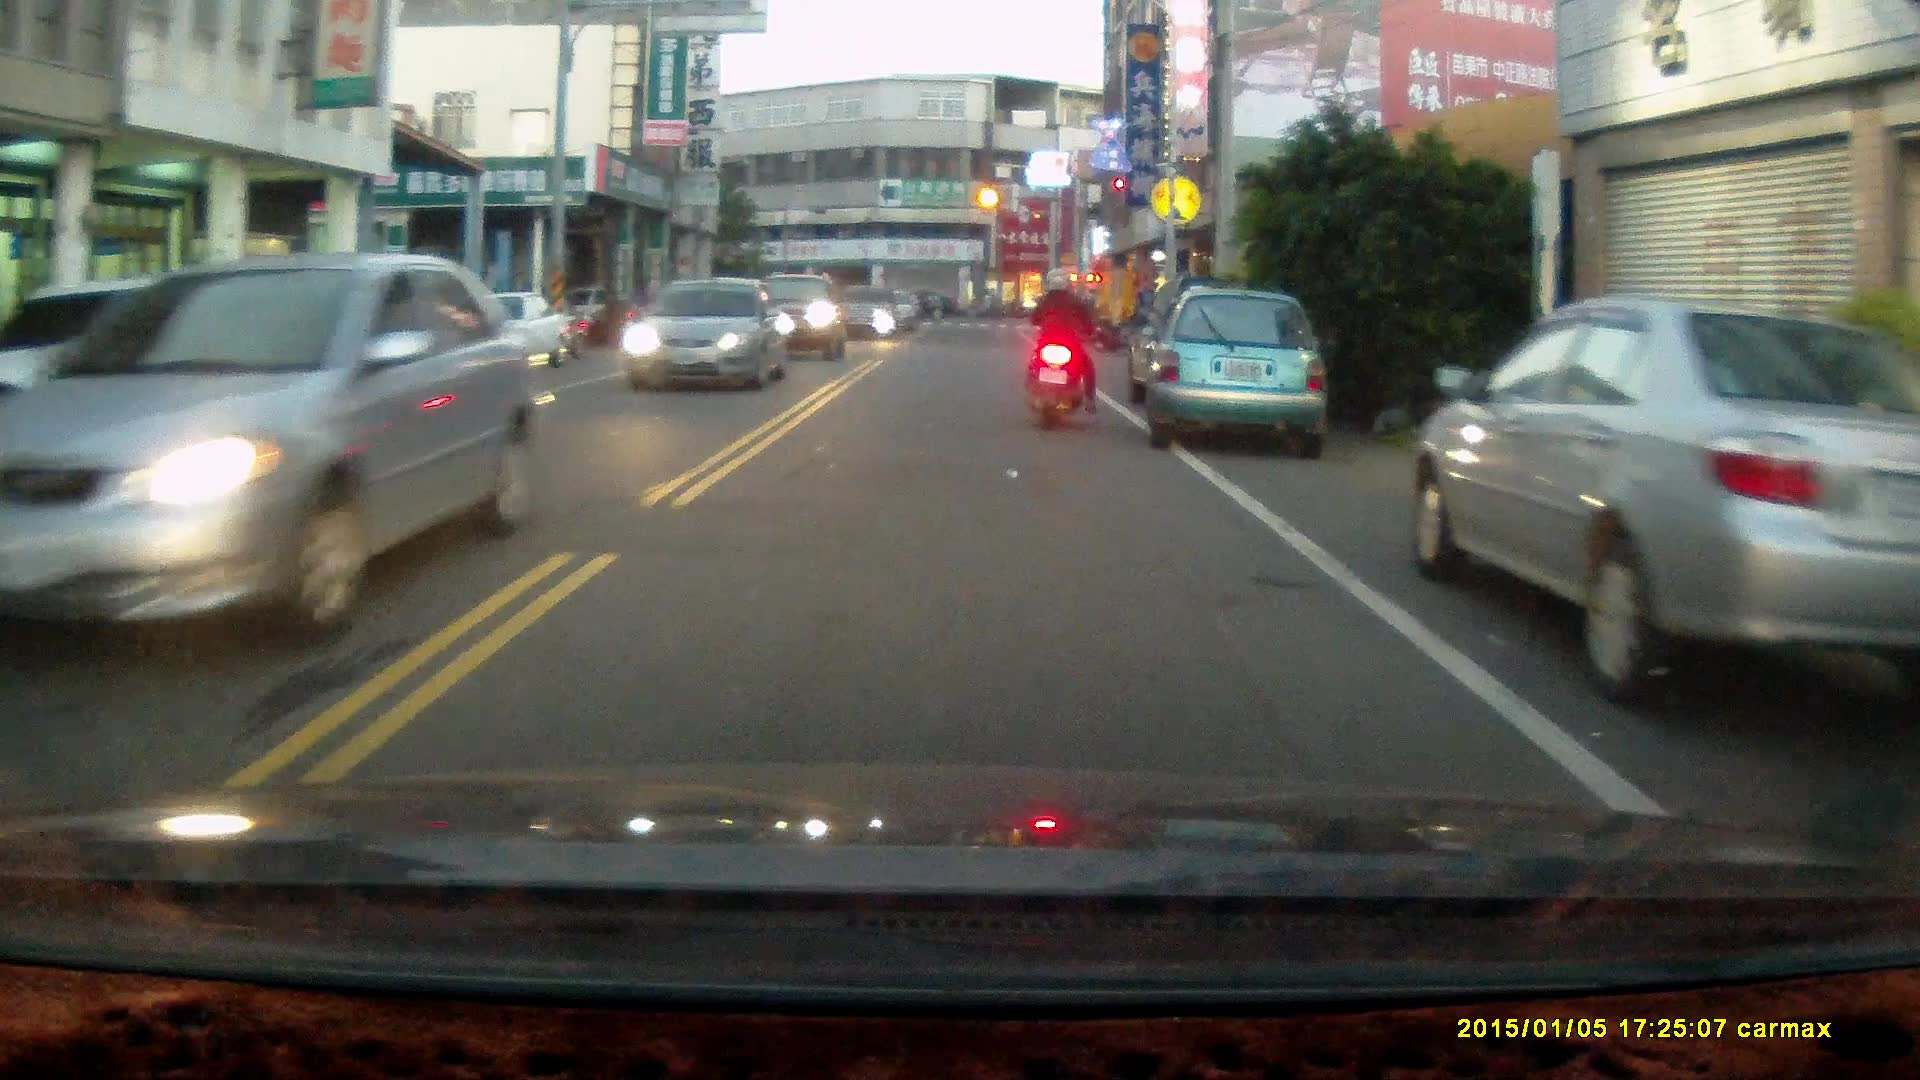rider: (1026, 264, 1106, 429)
vehicle: (1, 251, 543, 643), (1414, 295, 1920, 700), (1143, 290, 1327, 444), (628, 276, 788, 393), (726, 270, 854, 363)
